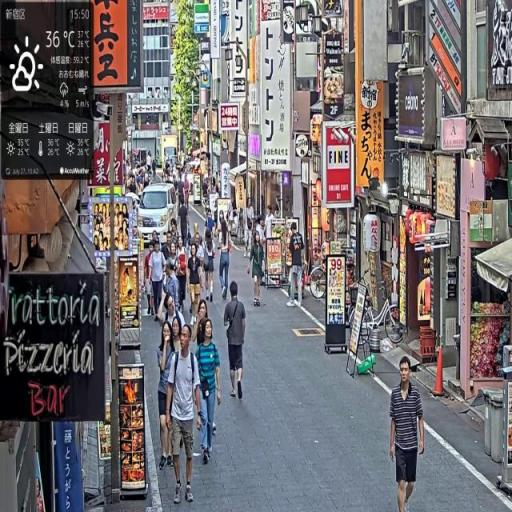person: (163, 321, 205, 507), (390, 356, 426, 512), (196, 319, 223, 467), (156, 323, 178, 472), (225, 281, 248, 402), (287, 219, 306, 309), (249, 227, 267, 309), (218, 215, 235, 301), (150, 240, 167, 325), (187, 244, 205, 323), (176, 235, 190, 314)
